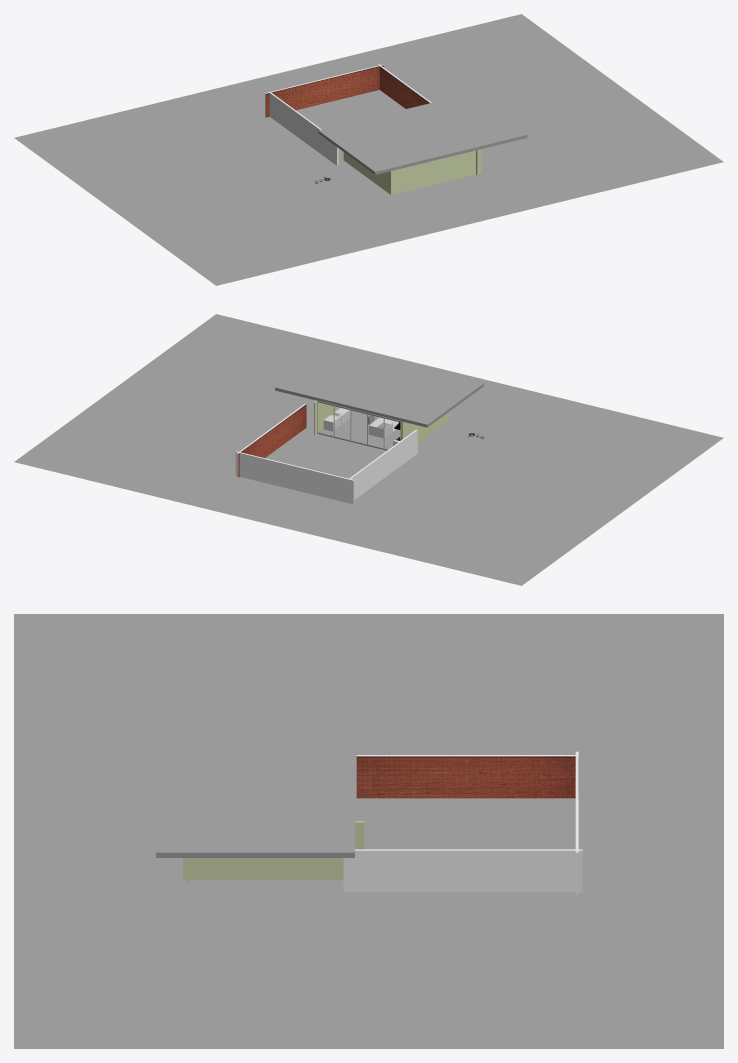
File: kitchen.fbx
3 renders of one model, top to bottom at view 1: azimuth 30°, elevation 25°; view 2: azimuth 150°, elevation 25°; view 3: azimuth 270°, elevation 25°, orthographic. The views are drawn at different scales.
Parts seen in each view (by area): view 1: polySurface11, polySurface52, polySurface59, polySurface50, polySurface60, polySurface58, polySurface12; view 2: polySurface11, polySurface52, polySurface59, polySurface60, polySurface58, polySurface12, polySurface61; view 3: polySurface11, polySurface52, polySurface58, polySurface60, polySurface61.
Part boxes in pixels (x1,y1,x2,y2): polySurface11: (14, 14, 723, 285); polySurface52: (318, 93, 527, 174); polySurface59: (265, 64, 383, 117); polySurface50: (392, 149, 481, 194); polySurface60: (269, 92, 338, 165); polySurface58: (377, 64, 431, 108); polySurface12: (343, 152, 391, 194); polySurface11: (14, 314, 723, 585); polySurface52: (275, 346, 483, 427); polySurface59: (235, 451, 354, 504); polySurface60: (348, 429, 417, 503); polySurface58: (237, 403, 306, 477); polySurface12: (401, 411, 450, 442); polySurface61: (314, 400, 339, 435); polySurface11: (14, 614, 723, 1048); polySurface52: (156, 722, 354, 857); polySurface58: (343, 849, 582, 892); polySurface60: (356, 755, 578, 798); polySurface61: (183, 821, 364, 879).
Bounding box in the file's own units: 2516 × 186 × 1737.
